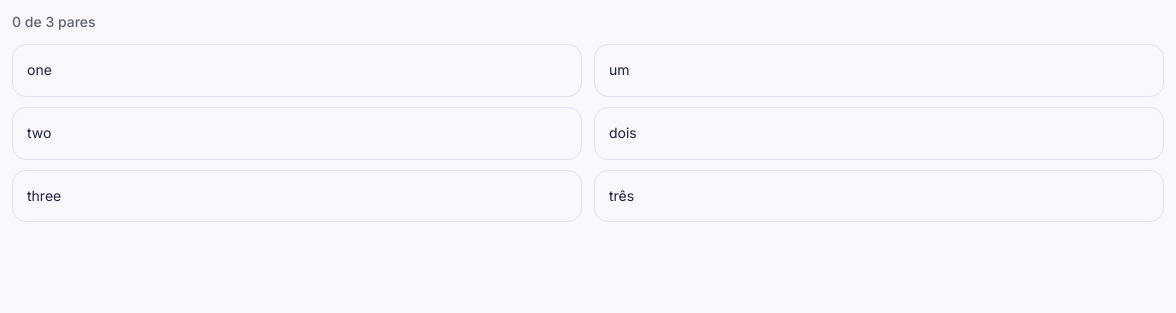
Test case: MatchColumns com feedback imediato › preserva o candidato em falha de rede e permite retry
Step 1. Click the button "one" → (39, 70), box [12,44,582,97]
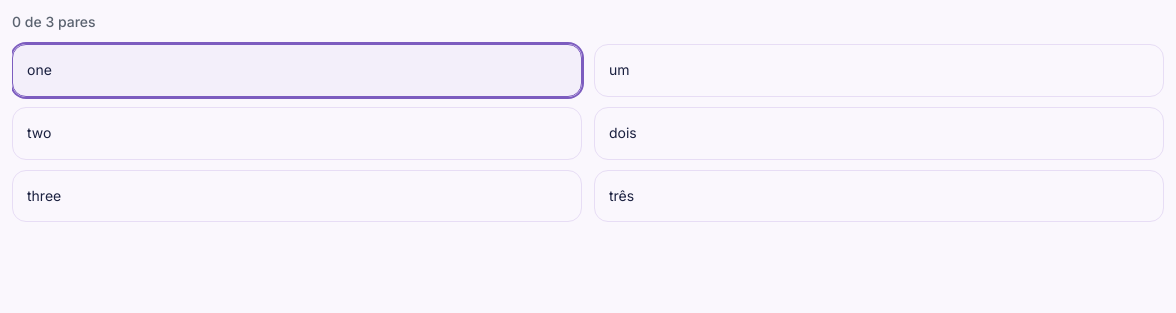
Step 2. Click the button "um" → (619, 70), box [594,44,1164,97]
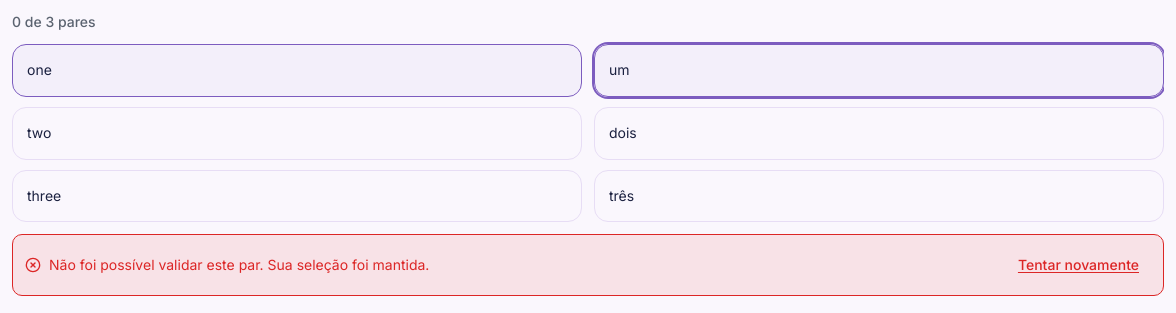
Expected: the message shows "seleção foi mantida", [49,256,429,273]
Step 3. Click the button "Tentar novamente" → (1078, 265), box [1006,243,1151,287]
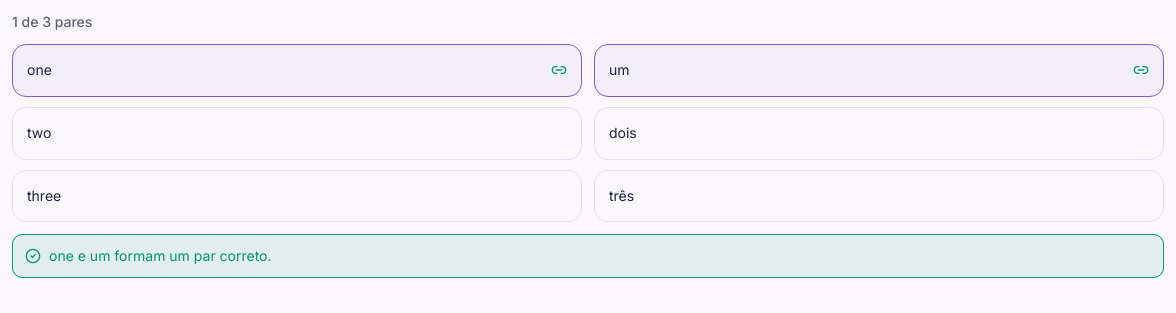
Expected: the text "1 de 3 pares" is shown, [12,13,92,30]
